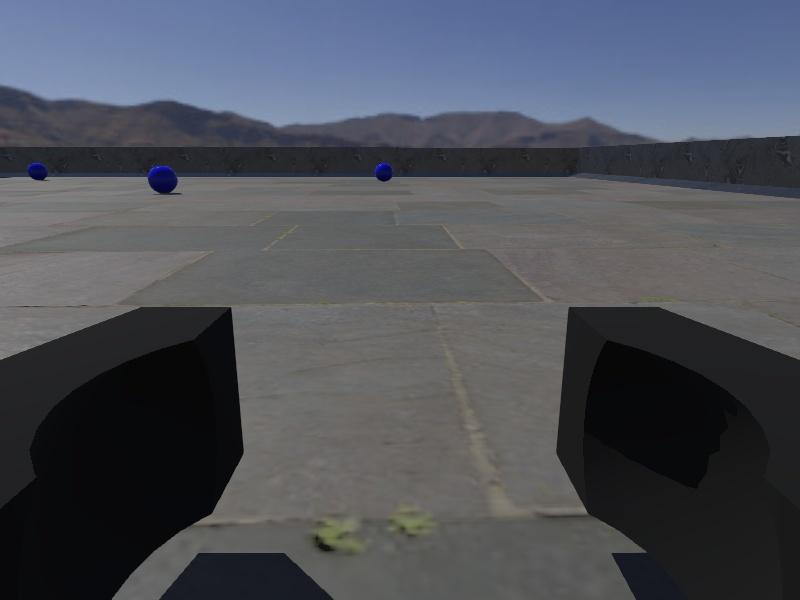blue ball: (148, 163, 179, 195), (26, 160, 49, 182), (374, 162, 395, 182)
